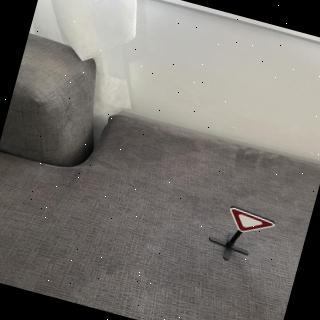sign_yield: (225, 205, 279, 242)
